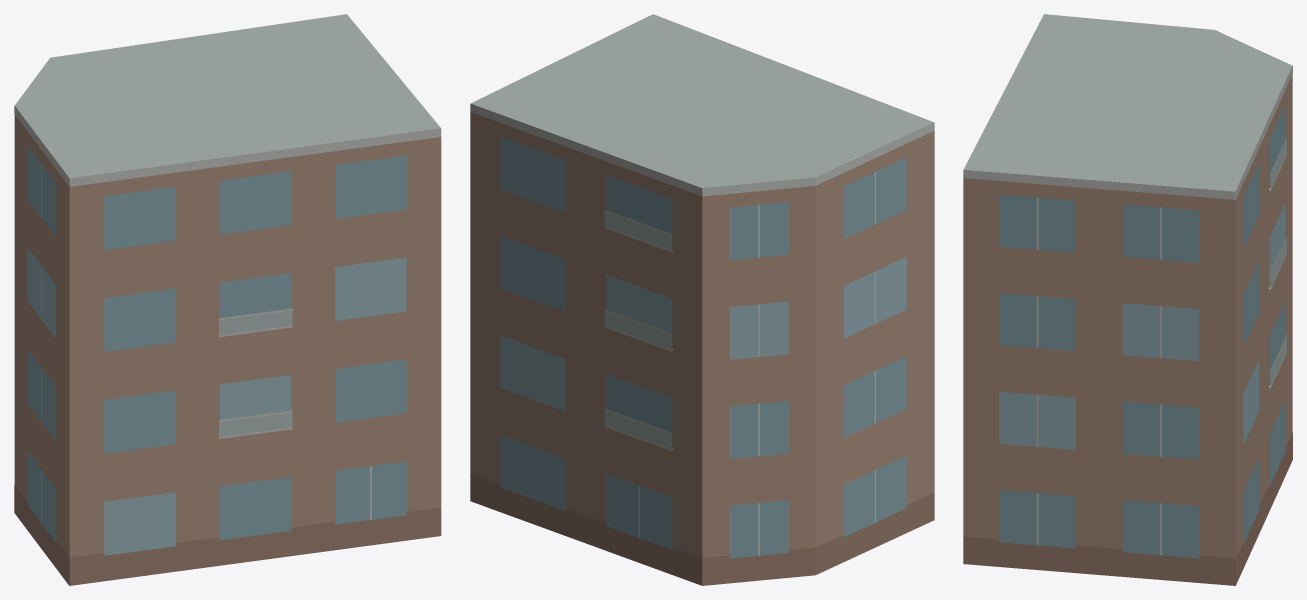
Rendered from residential-9a1ce548-5630-43e6-8de1-16bbaf7d77ef.glb.
3 renders of one model, left to right at view 1: azimuth 30°, elevation 25°; view 2: azimuth 150°, elevation 25°; view 3: azimuth 270°, elevation 25°, orthographic. The views are drawn at different scales.
Visible parts, largest first — view 1: residential-9a1ce548-5630-43e6-8de1-16bbaf7d77ef.tmp; view 2: residential-9a1ce548-5630-43e6-8de1-16bbaf7d77ef.tmp; view 3: residential-9a1ce548-5630-43e6-8de1-16bbaf7d77ef.tmp.
Part boxes in pixels (left/top/right/bottom): residential-9a1ce548-5630-43e6-8de1-16bbaf7d77ef.tmp: left=14, top=14, right=441, bottom=585; residential-9a1ce548-5630-43e6-8de1-16bbaf7d77ef.tmp: left=470, top=14, right=934, bottom=585; residential-9a1ce548-5630-43e6-8de1-16bbaf7d77ef.tmp: left=963, top=14, right=1292, bottom=585.
Bounding box in the file's own units: 11.32 × 11.7 × 8.87.
